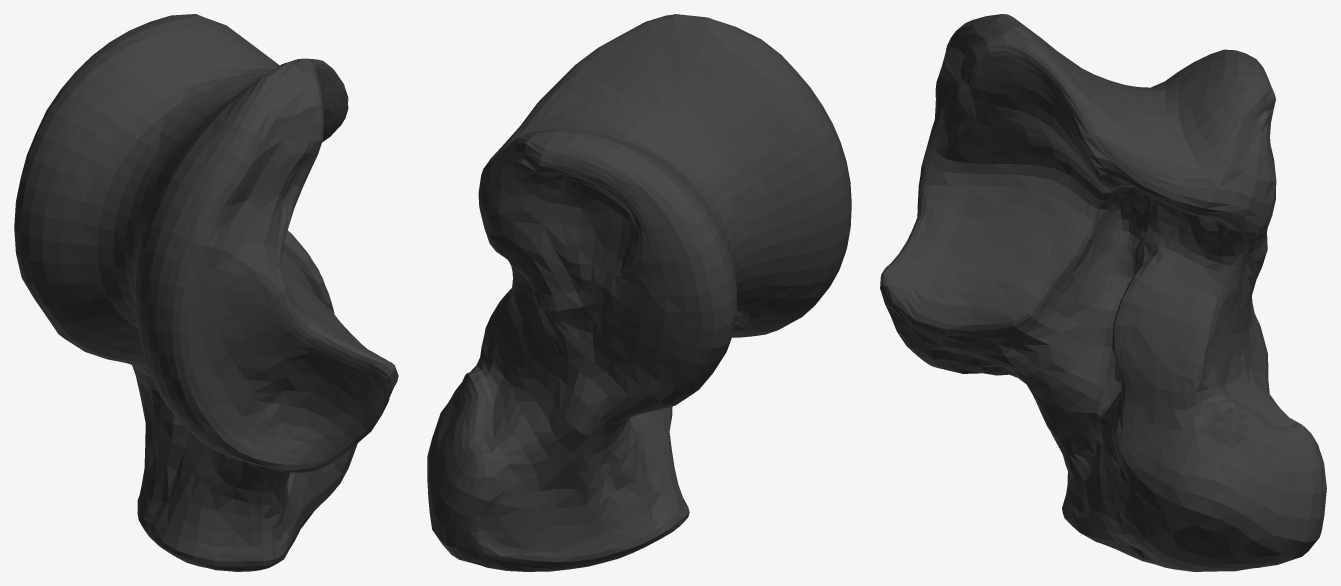
The model's file is talus_L.glb.
The picture shows the model from 3 angles, left to right: view 1: azimuth 30°, elevation 25°; view 2: azimuth 150°, elevation 25°; view 3: azimuth 270°, elevation 25°; orthographic projection. The views are drawn at different scales.
Parts seen in each view (by area): view 1: talus_L; view 2: talus_L; view 3: talus_L.
Part boxes in pixels (box(x1,y1,x2,y2)): talus_L: box(14, 14, 398, 571); talus_L: box(427, 14, 851, 571); talus_L: box(880, 14, 1326, 571).
Size of the model in its own units: 0.0294 by 0.0463 by 0.0366.
Materials: 1 (1 with a texture image).
